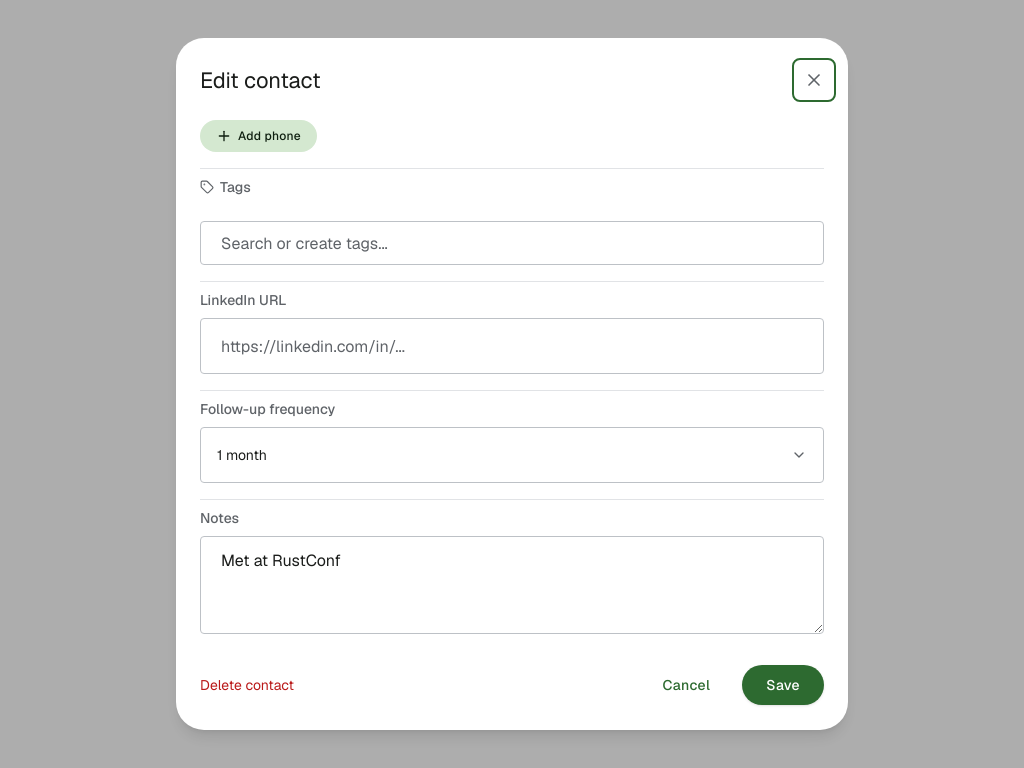
Test: Edit contact unsaved-changes guard › routes the footer Cancel through the same guard as Escape
(page scrolled)
Replace the text in the text box with placeholder "Anything worth remembering..." with "edited". click: {"x": 512, "y": 585}
box: [200,536,824,634]
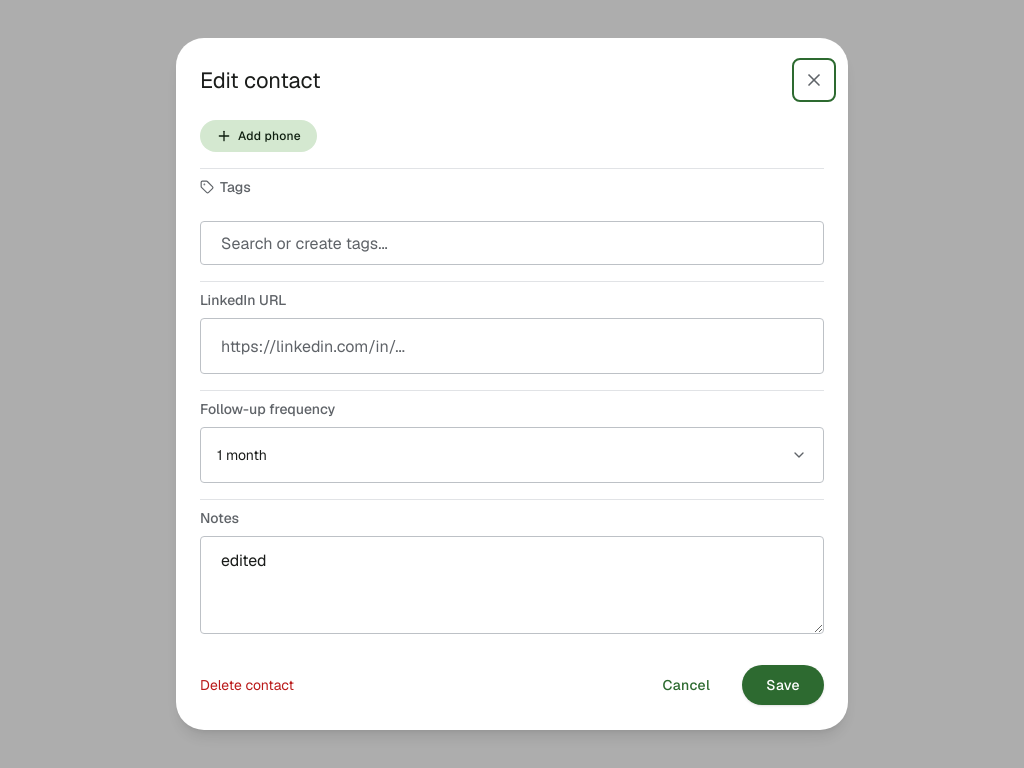
Click the button "Cancel". click: {"x": 686, "y": 685}
box: [639,665,734,705]
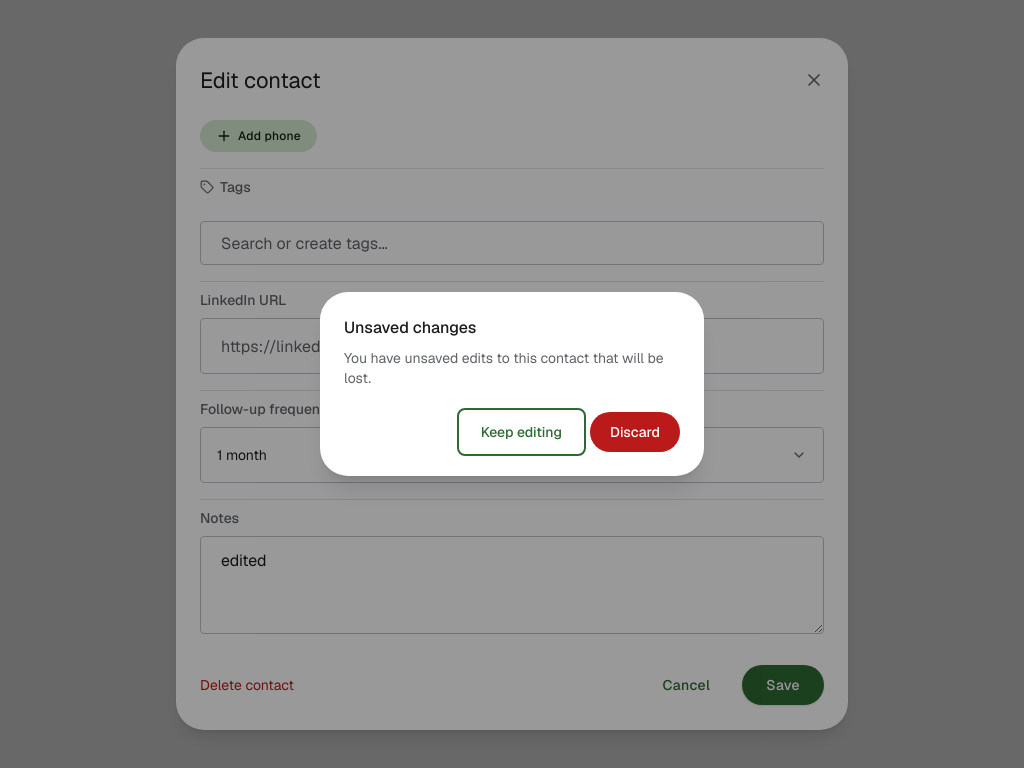
Now the dialog that starts with "Unsaved changes" is shown, box [320,292,704,476]
